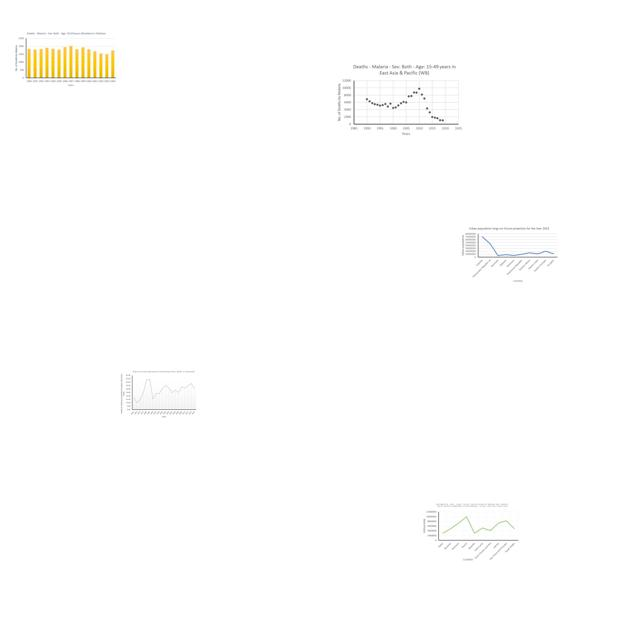Graph: (334, 61, 464, 138), (13, 30, 118, 88), (458, 225, 559, 284), (422, 502, 520, 561), (120, 369, 198, 418)
